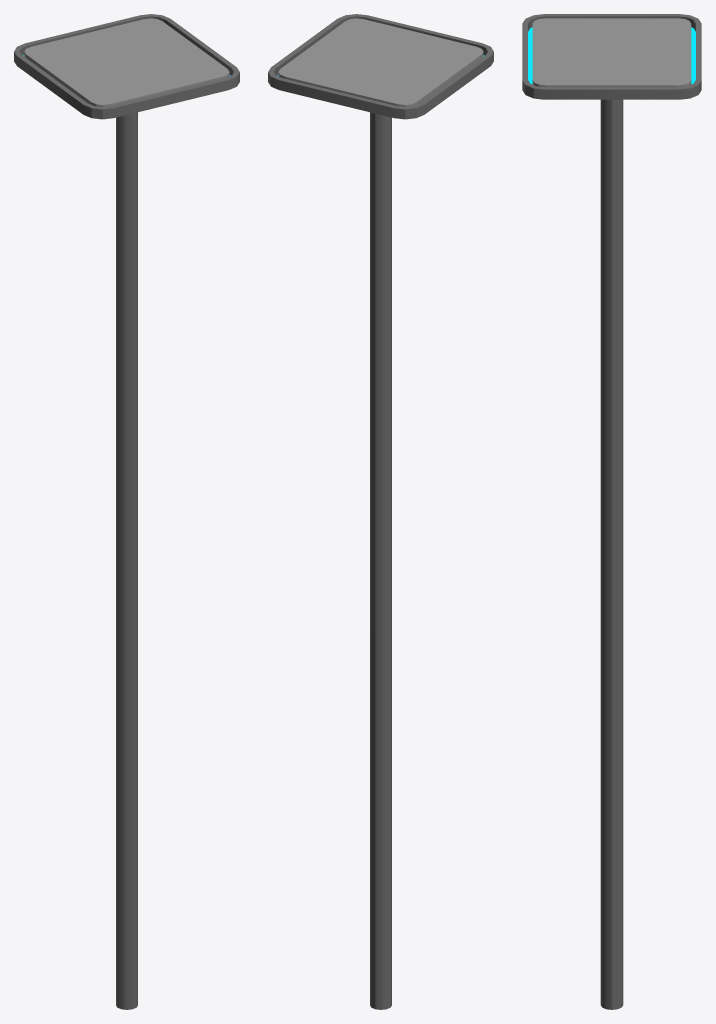
Rendered from ParkourPlatform 1.fbx.
3 renders of one model, left to right at view 1: azimuth 30°, elevation 25°; view 2: azimuth 150°, elevation 25°; view 3: azimuth 270°, elevation 25°, orthographic.
Parts seen in each view (by area): view 1: SupportBeam, InnerPlatform, OuterPlatform; view 2: SupportBeam, InnerPlatform, OuterPlatform; view 3: SupportBeam, InnerPlatform, OuterPlatform, PlatformGlow.
Part boxes in pixels (x1,y1,x2,y2): SupportBeam: (116,112,137,1009); InnerPlatform: (24,18,229,106); OuterPlatform: (14,14,239,119); SupportBeam: (370,112,391,1009); InnerPlatform: (278,18,483,106); OuterPlatform: (268,14,493,119); SupportBeam: (600,99,623,1009); InnerPlatform: (532,18,691,87); OuterPlatform: (522,14,701,99); PlatformGlow: (528,27,695,84).
Size of what is drawn, in the model's own units: 1600 by 9400 by 1600.
